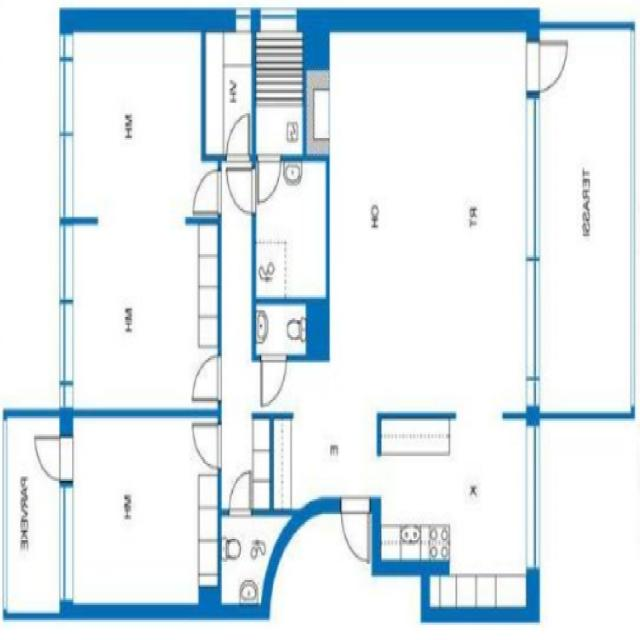door: (526, 43, 568, 91), (340, 499, 370, 563), (35, 438, 73, 481), (192, 424, 222, 467), (192, 356, 221, 400), (262, 354, 286, 405), (227, 170, 255, 213), (194, 172, 222, 212), (227, 114, 250, 162), (258, 154, 280, 201), (229, 472, 250, 515)
